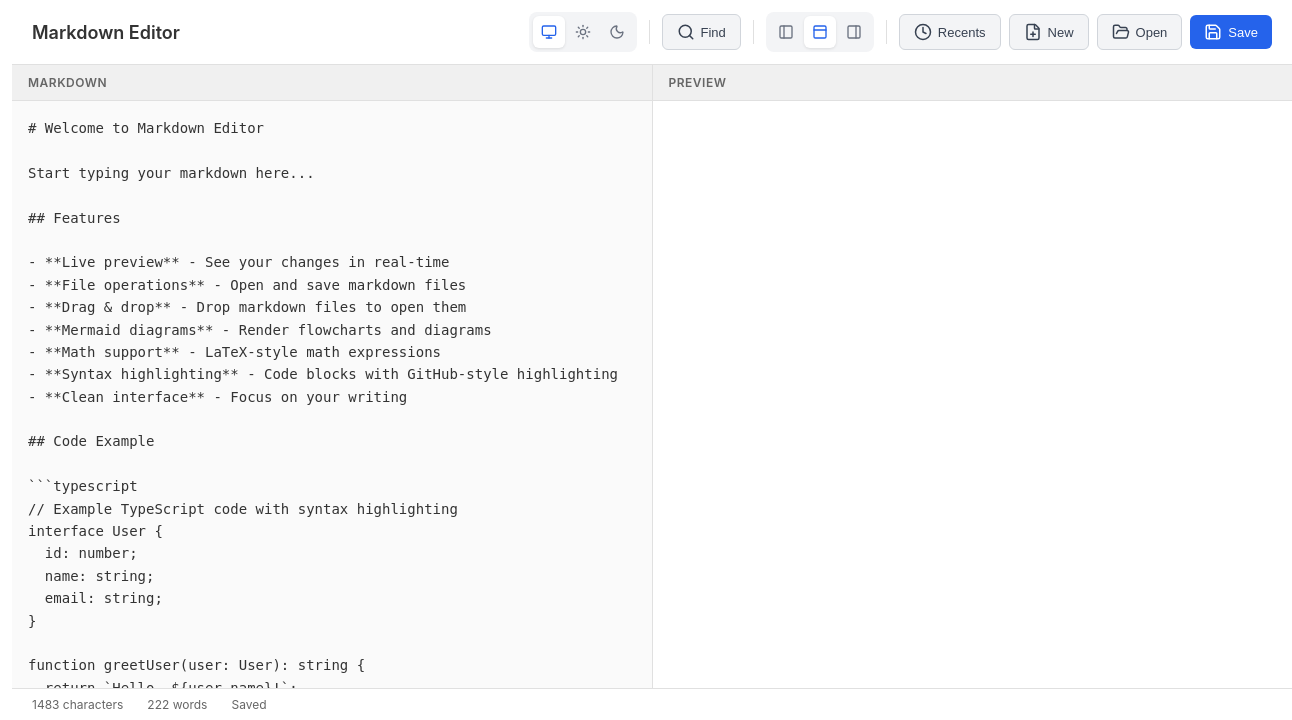
Test case: App › opens recent files dropdown when Recents button is clicked
Step 1. Click the button titled "Recent Files" → (950, 32), box [899,14,1000,50]
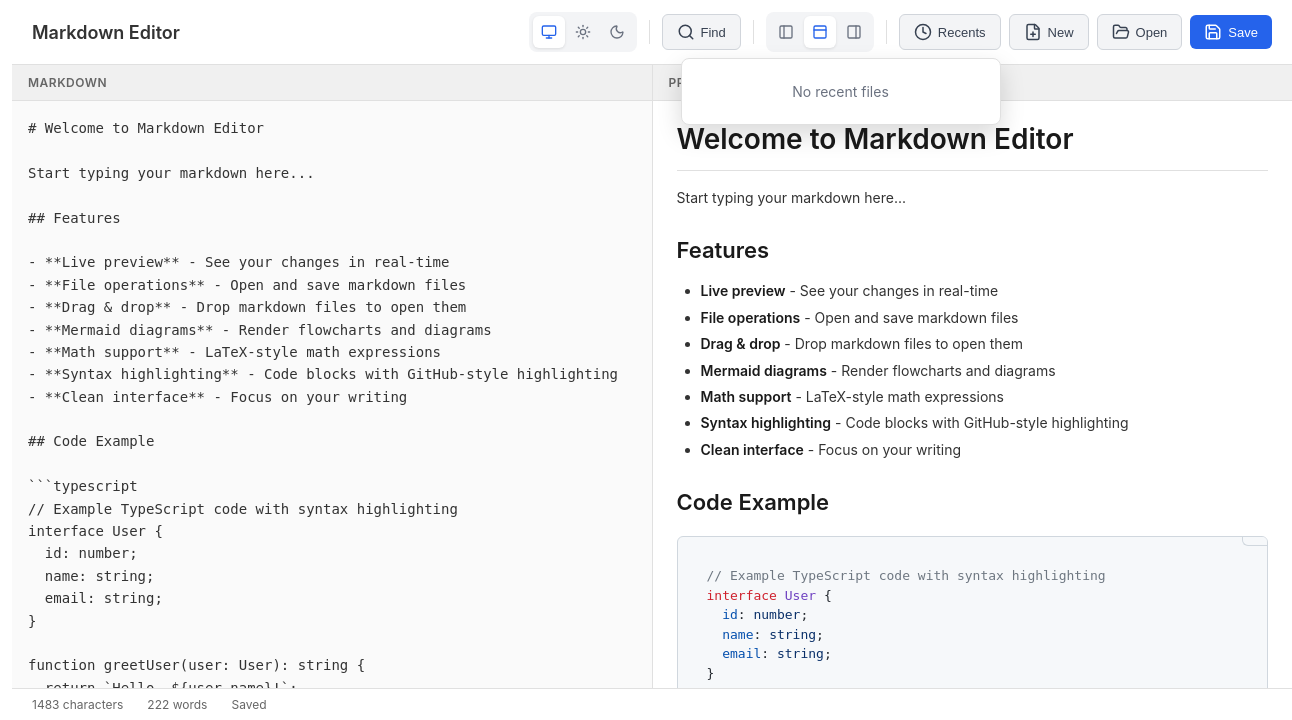
Check: the text "No recent files" is shown, box [792,83,889,100]
